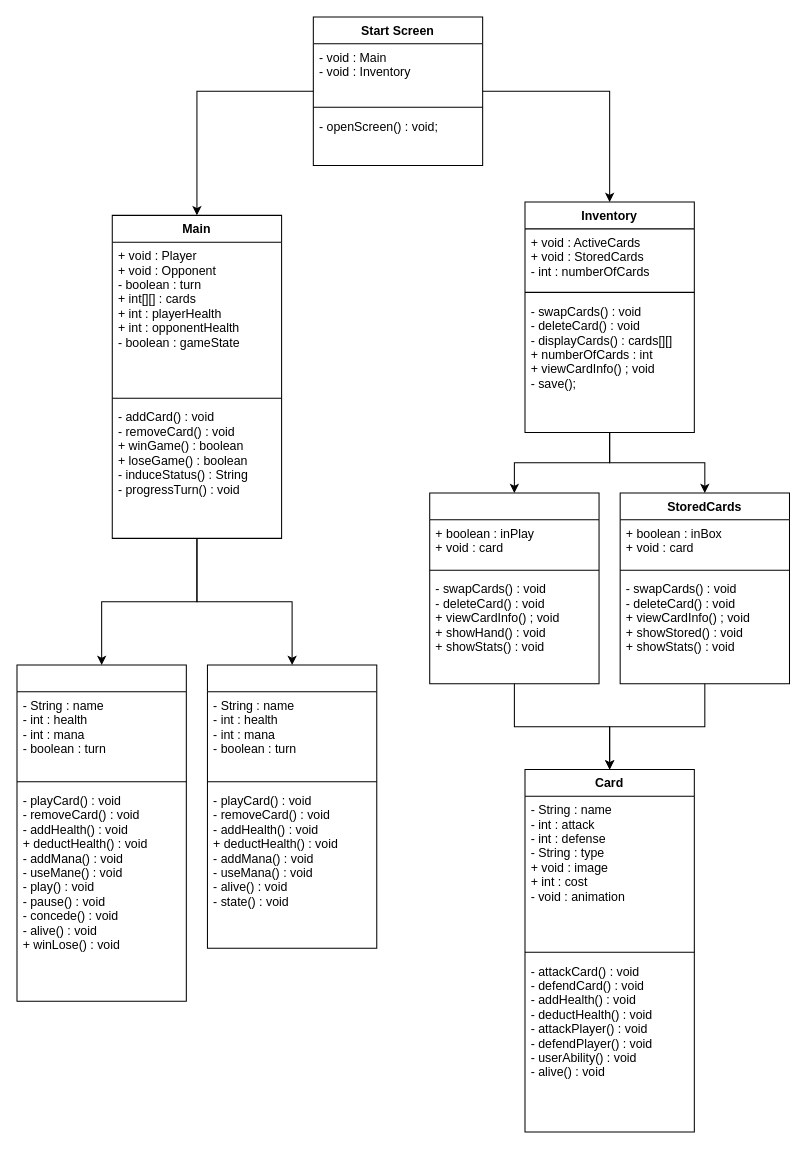
Image size: 806x1149. Some labels were removed from this diagram. The shapes that lost their labels are listed below. From the top down, each one's box as (x1, y1, x2, y2) in pixels, then its label:
(429, 492, 599, 684): ActiveCards
(206, 664, 377, 948): Opponent
(16, 664, 186, 1001): Player
